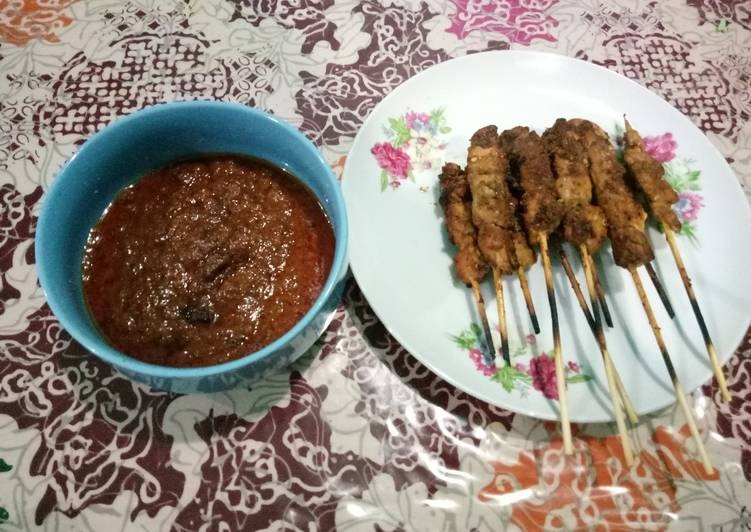sate_madura: (439, 114, 750, 451)
